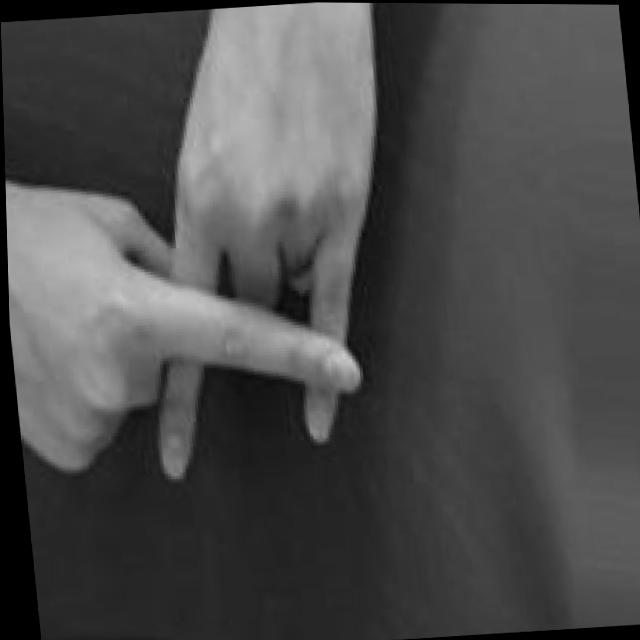H: (0, 0, 435, 499)
